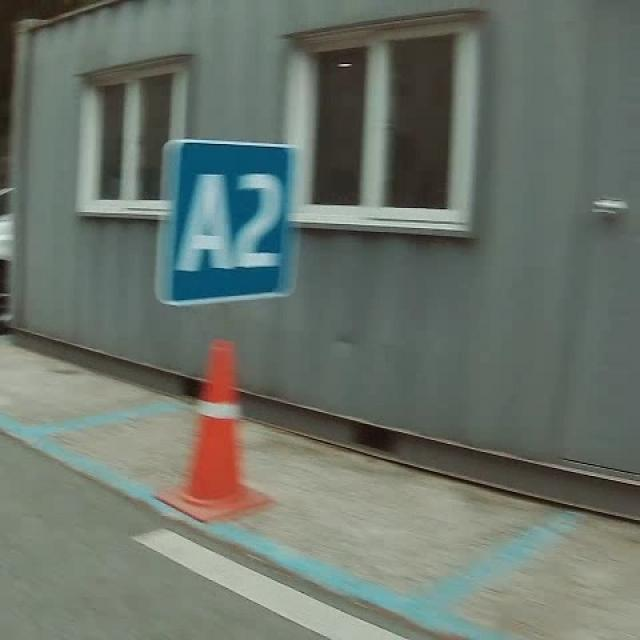a2: (153, 135, 302, 312)
